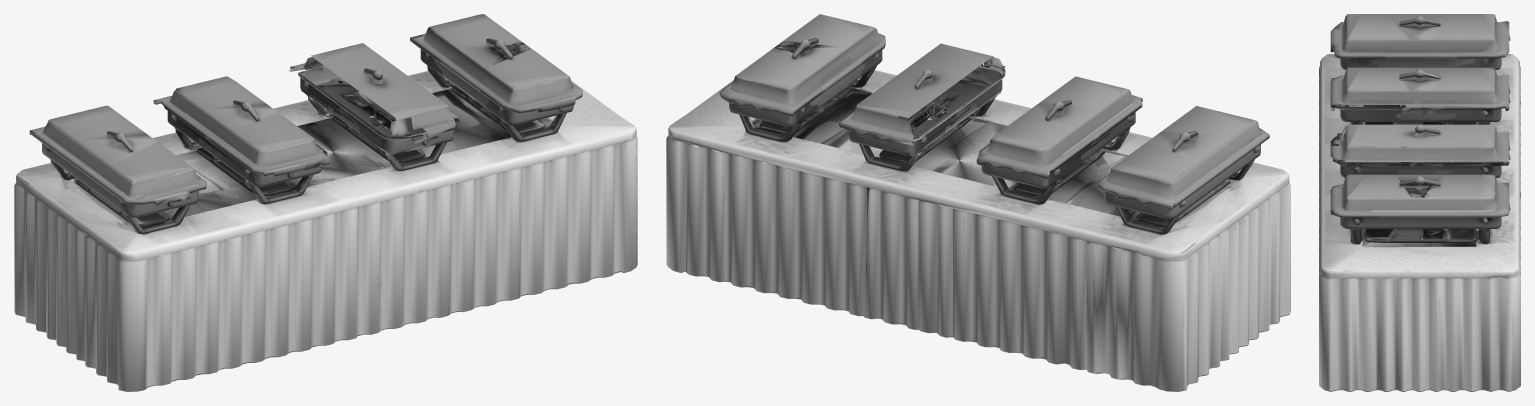
Rendered from buffet_table_setup_0125195004_texture.glb.
3 views of the same model, side by side, from view 1: azimuth 30°, elevation 25°; view 2: azimuth 150°, elevation 25°; view 3: azimuth 270°, elevation 25° (orthographic). The views are drawn at different scales.
Parts seen in each view (by area): view 1: Mesh_0; view 2: Mesh_0; view 3: Mesh_0.
Part boxes in pixels (<box>): Mesh_0: <box>14,14,637,391</box>; Mesh_0: <box>666,14,1290,391</box>; Mesh_0: <box>1319,14,1520,391</box>.
Size of the model in its own units: 2.8 by 1.07 by 1.09.
Materials: 1 (1 with a texture image).
